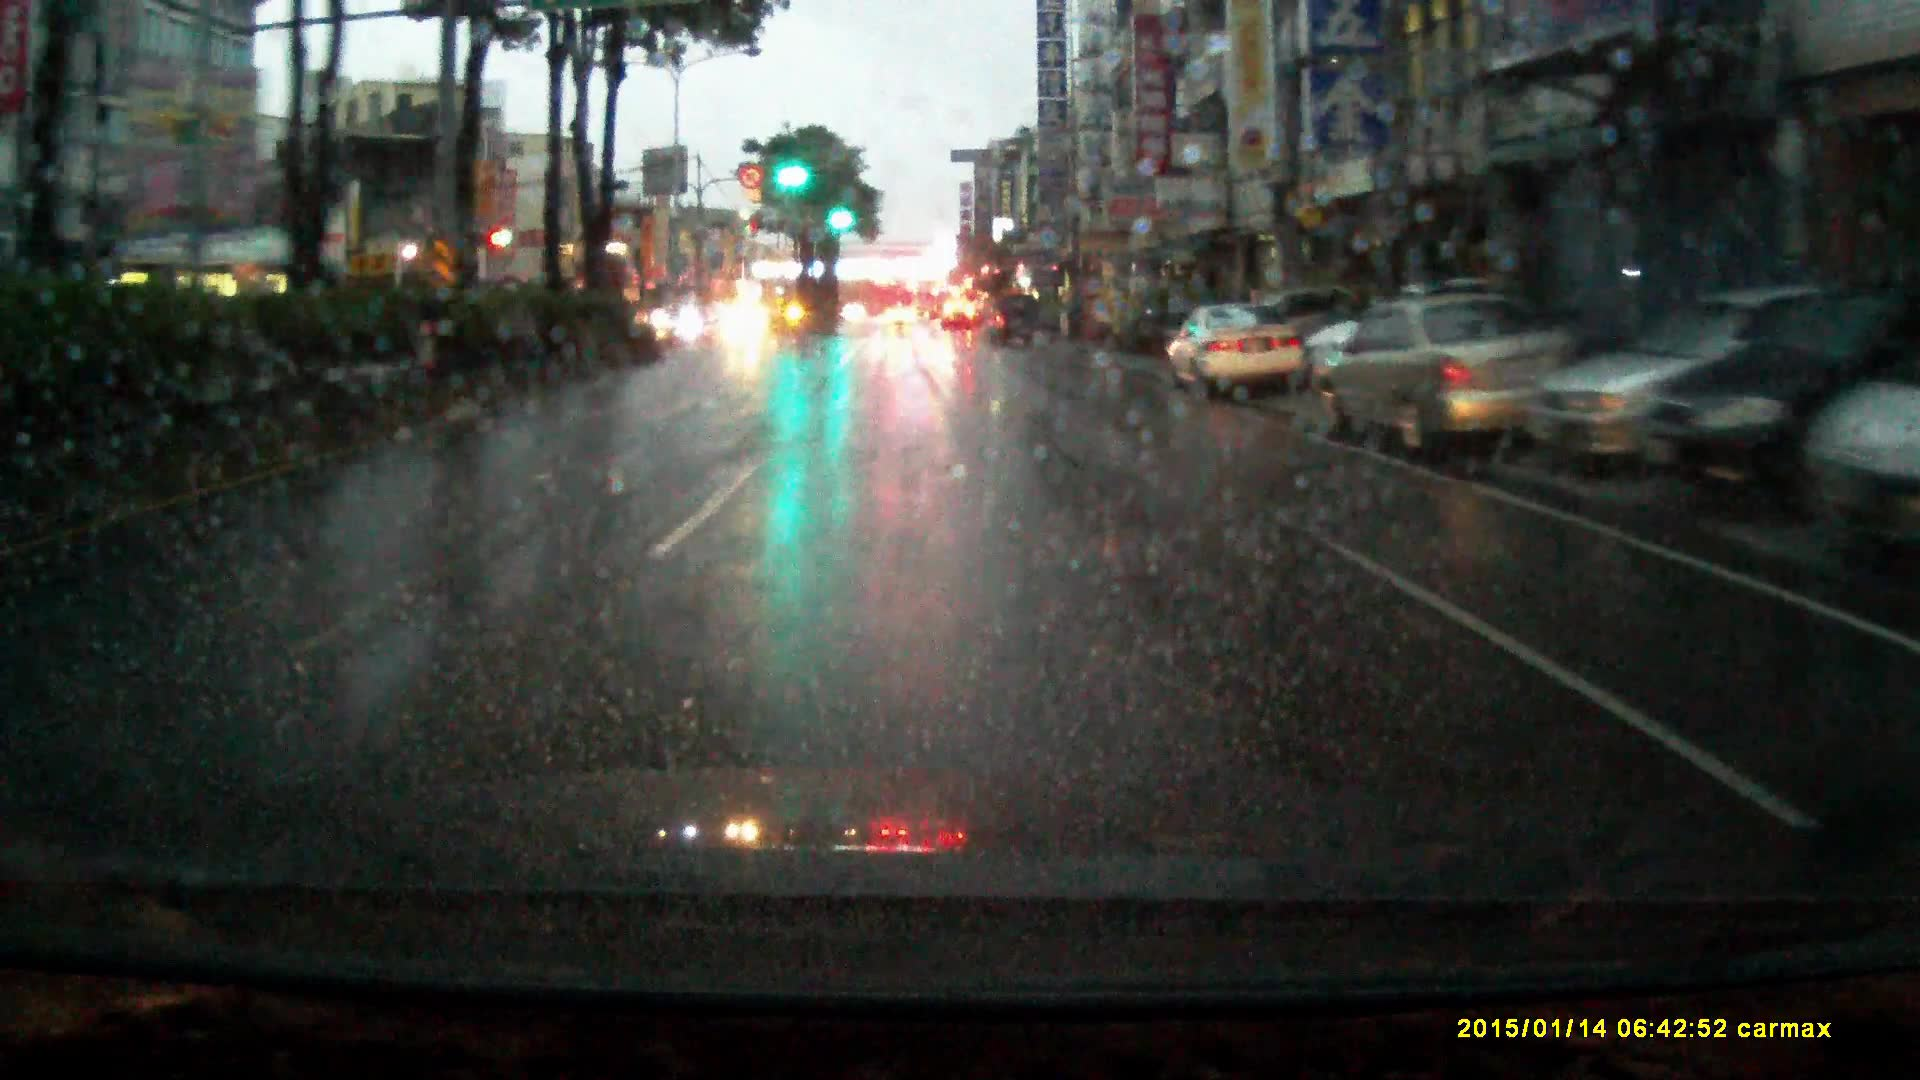vehicle: (1643, 293, 1920, 509), (1528, 291, 1815, 477), (1313, 297, 1590, 454), (1812, 352, 1920, 560), (1166, 299, 1305, 407), (716, 301, 773, 351), (990, 298, 1040, 345), (914, 280, 942, 323), (943, 298, 976, 328), (886, 305, 918, 326)
